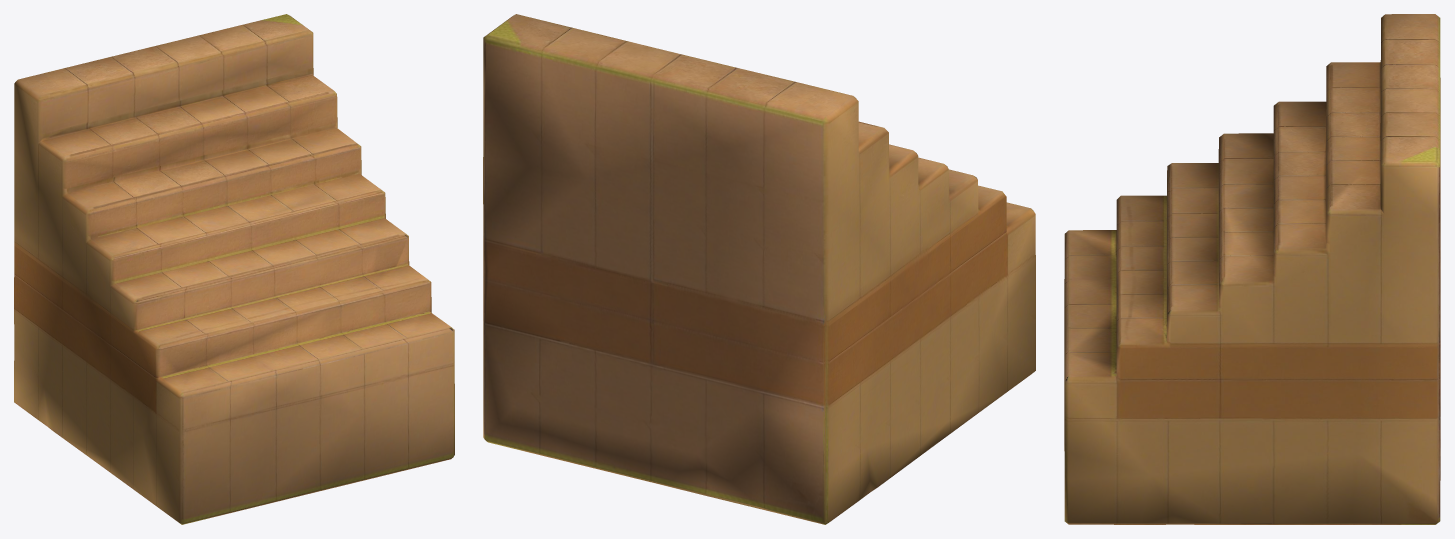
Rendered from Steps.glb.
The picture shows the model from 3 angles, left to right: view 1: azimuth 30°, elevation 25°; view 2: azimuth 150°, elevation 25°; view 3: azimuth 270°, elevation 25°; orthographic projection. The views are drawn at different scales.
Parts seen in each view (by area): view 1: Mesh1; view 2: Mesh1; view 3: Mesh1.
Boxes of the visible parts, <box> form: Mesh1: <box>14,14,454,524</box>; Mesh1: <box>483,14,1035,524</box>; Mesh1: <box>1064,14,1440,524</box>.
Size of the model in its own units: 1.78 by 2 by 1.87.
1 material, 1 textured.
